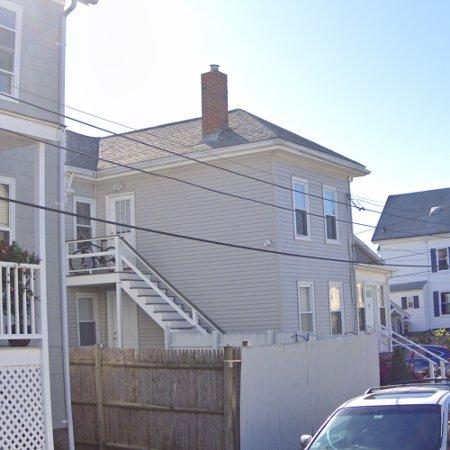chimneys: (201, 64, 229, 136)
stairs: (67, 236, 225, 336)
